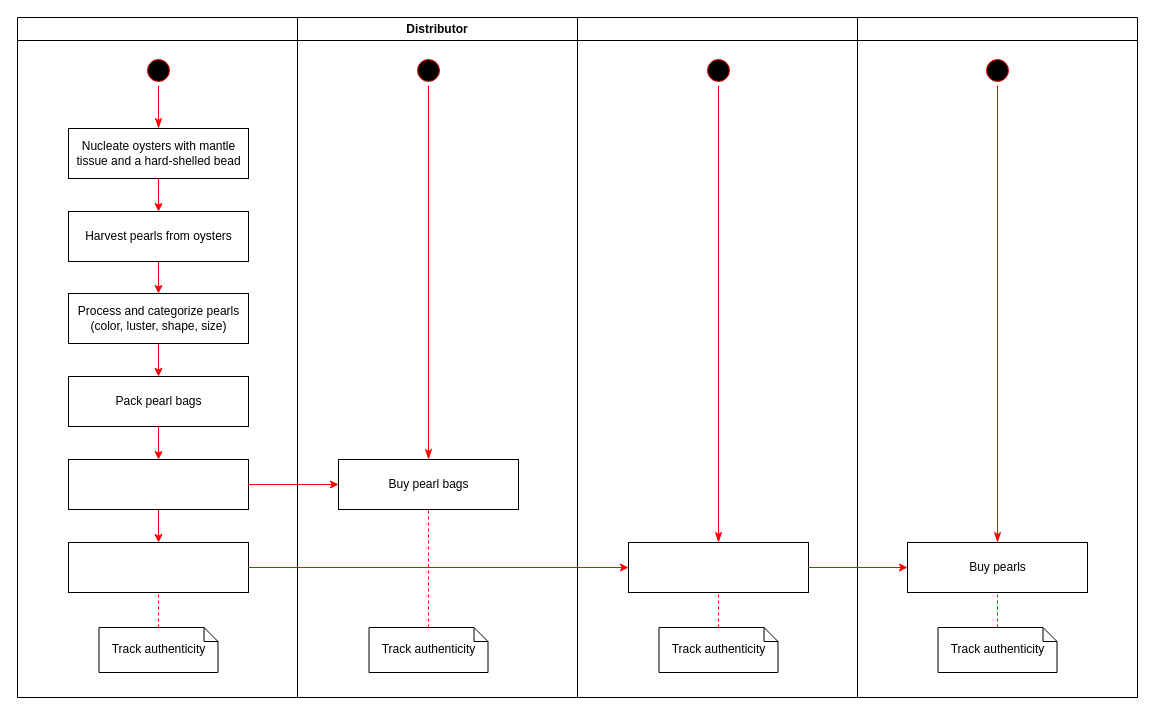
The diagram is 1155 pixels wide and 715 high, and some of its shapes have lost their labels. Here are the shapes that lost their labels. From the top down, the box of each, then its label:
(16, 16, 298, 698): Pearl farmer
(576, 16, 858, 698): Retailer
(856, 16, 1138, 698): Consumer
(68, 458, 248, 510): Add pearl bags for wholesale distribution
(68, 542, 248, 592): Ship pearl bags for wholesale distribution
(628, 542, 808, 592): Receive pearl bags
